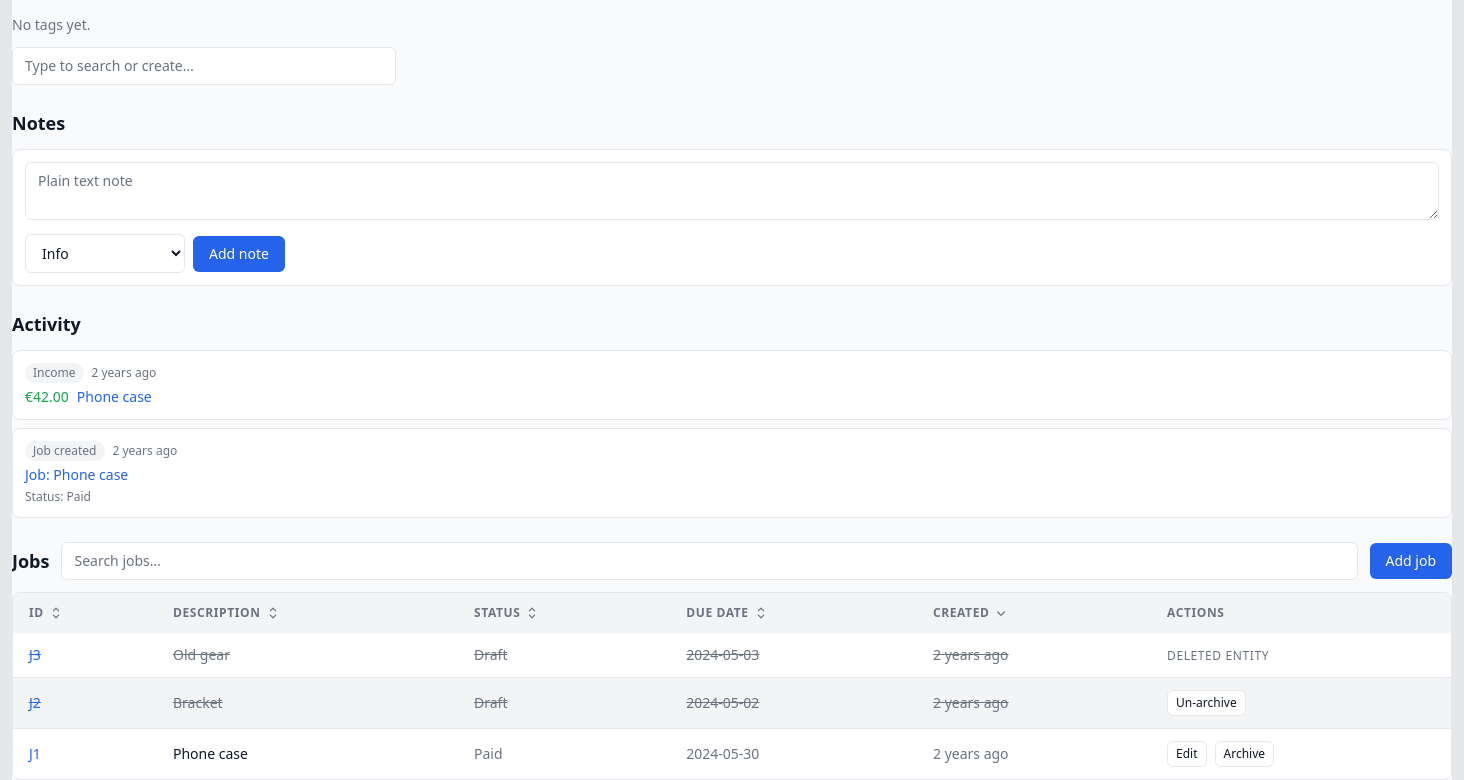
Scenario: ClientDetailPage › offers un-archive instead of edit for an archived job
(page scrolled)
What coordinates should you click on to do the following:
click the button with test id "client-job-unarchive-J2"
I would click on:
 (1206, 703)
Its box is [1167,690,1246,716].
(page scrolled)
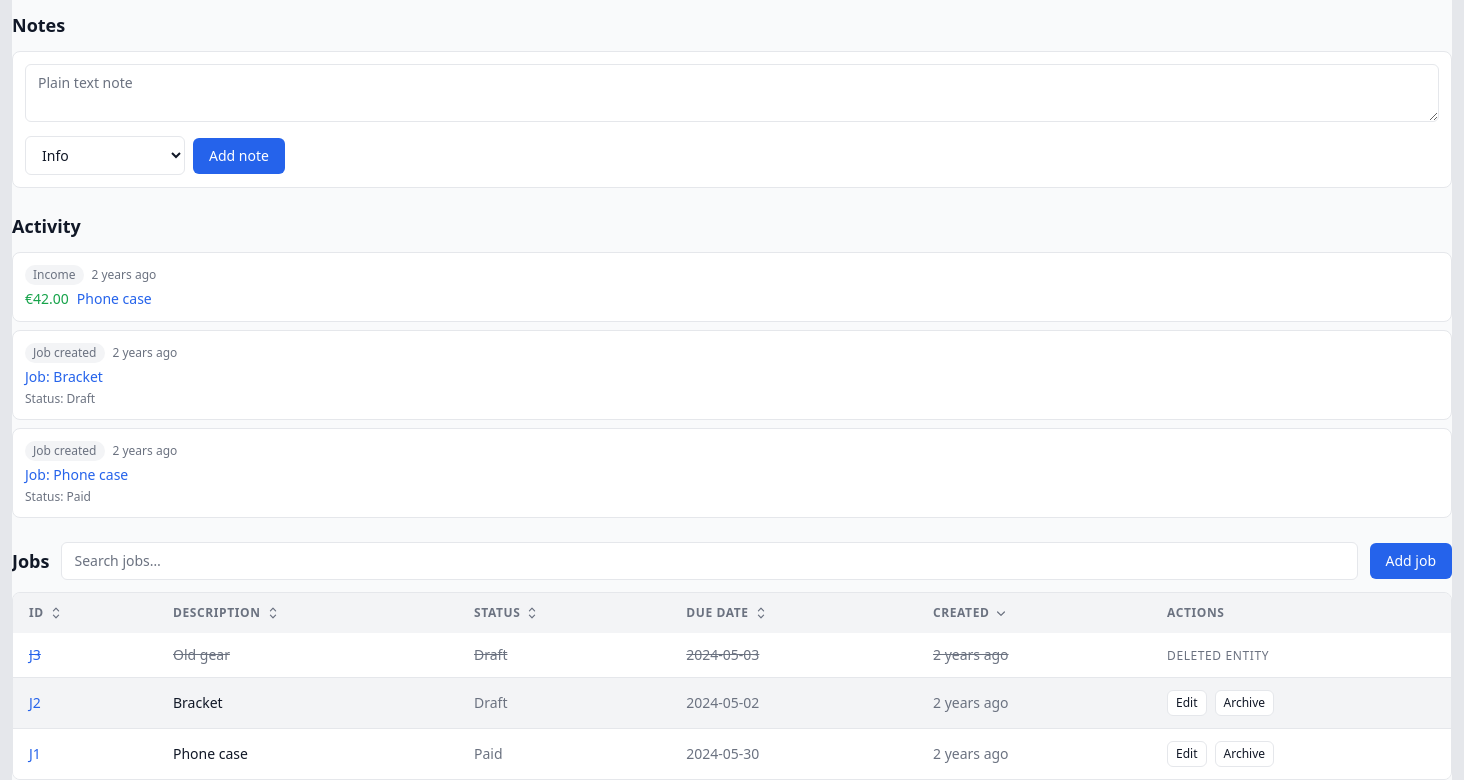
Result: the button with test id "client-job-edit-J2" is shown at [1167,690,1206,716]
